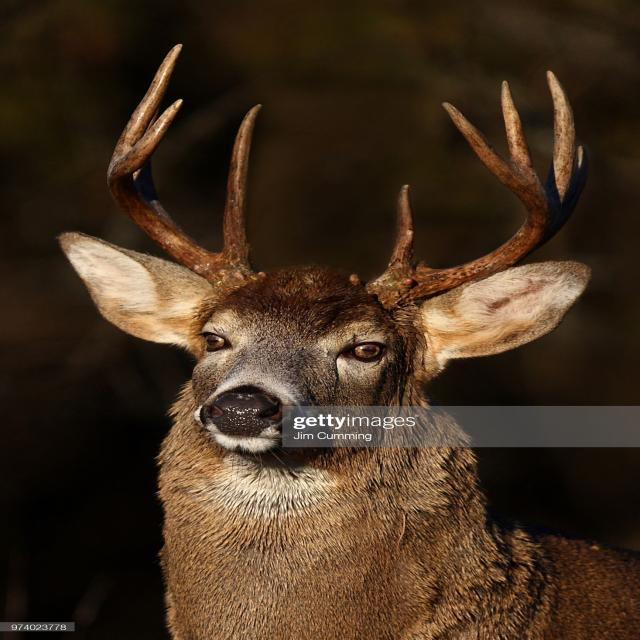L-F: (364, 101, 554, 314), (108, 98, 267, 301)
L-G1: (386, 184, 416, 271)
R-G1: (216, 104, 262, 268)
